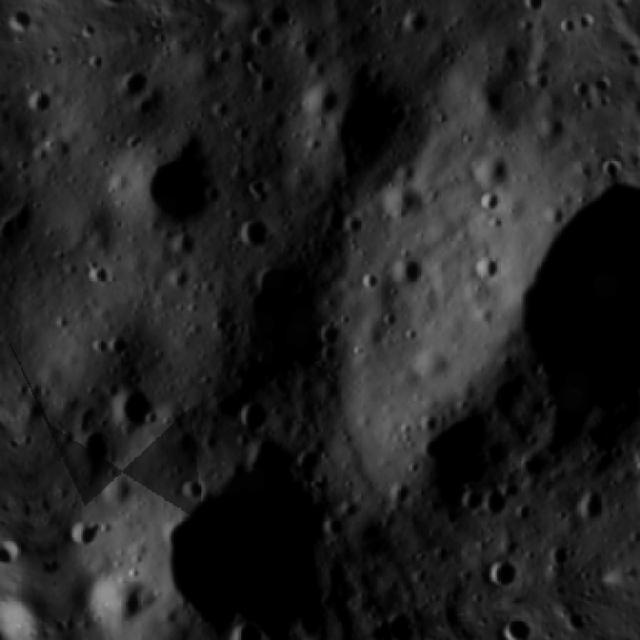crater: (119, 406, 388, 640), (474, 158, 640, 458), (112, 122, 246, 249), (63, 552, 166, 640), (59, 421, 130, 496), (102, 370, 175, 442), (47, 508, 121, 564), (374, 175, 437, 237), (564, 474, 621, 535), (228, 382, 282, 442), (226, 211, 282, 263), (166, 462, 220, 515), (468, 475, 518, 527), (382, 246, 429, 300), (110, 59, 161, 107), (479, 556, 532, 602), (296, 81, 344, 128), (16, 82, 61, 125), (241, 18, 287, 60), (221, 611, 279, 640), (578, 63, 602, 126)
